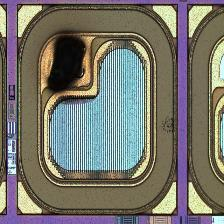PARTICLE: (46, 33, 88, 95)
